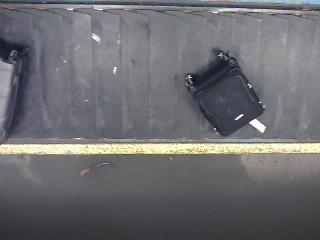Suitcase: (186, 50, 266, 136)
